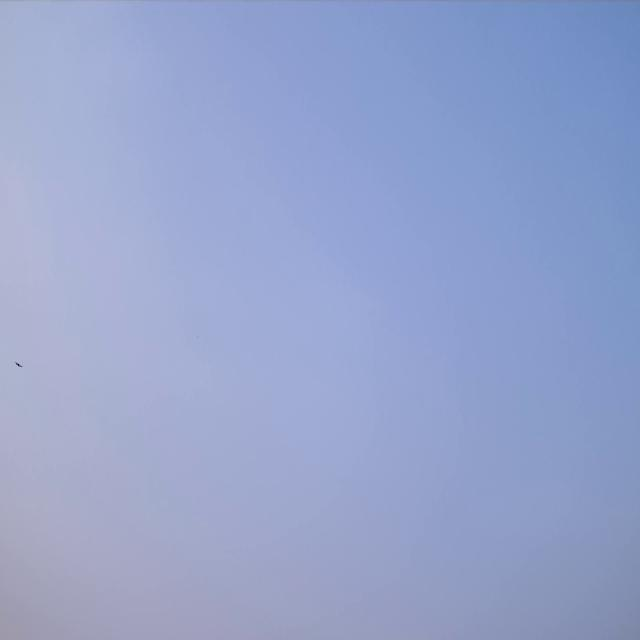UAV: (15, 360, 23, 369)
